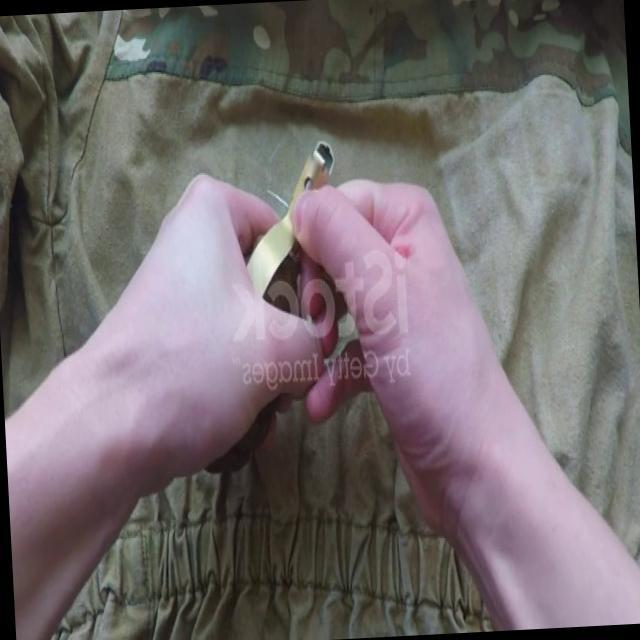grenade: (184, 130, 344, 472)
